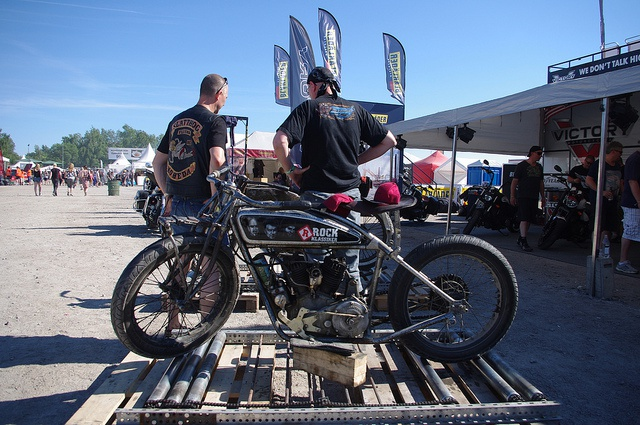non-vehicle: (109, 162, 519, 364), (219, 166, 419, 271), (538, 163, 594, 250), (456, 159, 519, 236), (132, 169, 168, 234), (400, 174, 444, 222)
